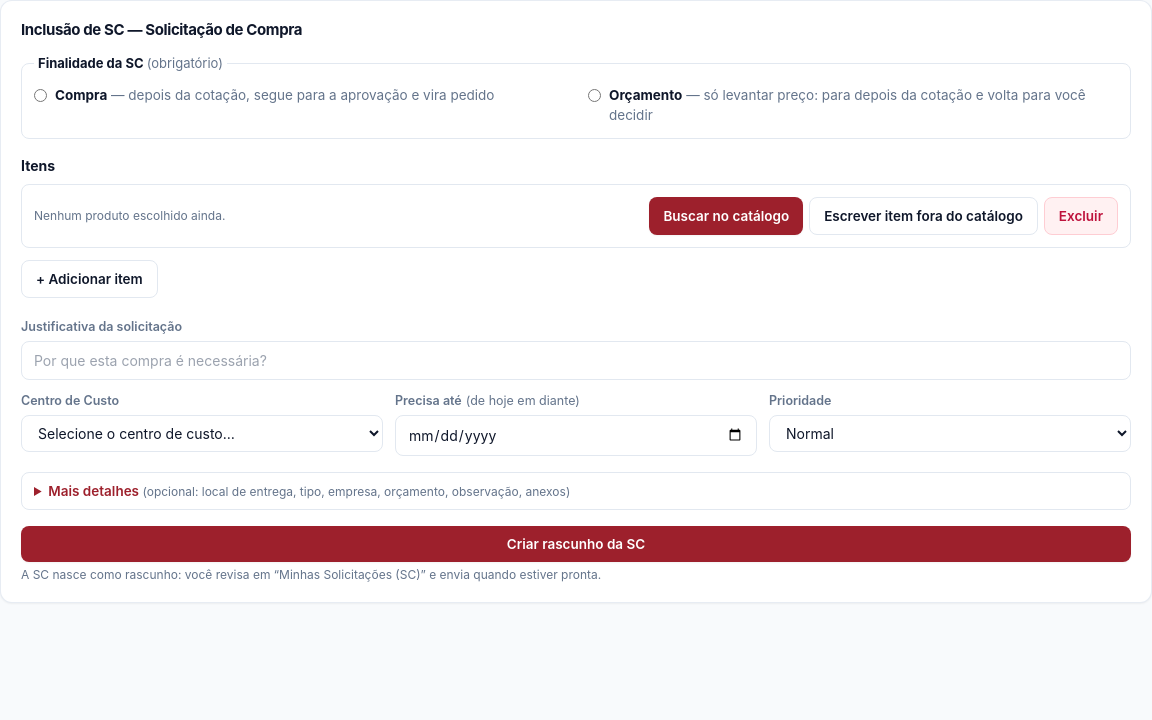
tela Inclusão de SC › a busca só acontece com família ou termo: o catálogo inteiro não é listado
Step 1. Click the button "Buscar no catálogo" → (726, 216), box top-left (649, 196), bottom-right (803, 235)
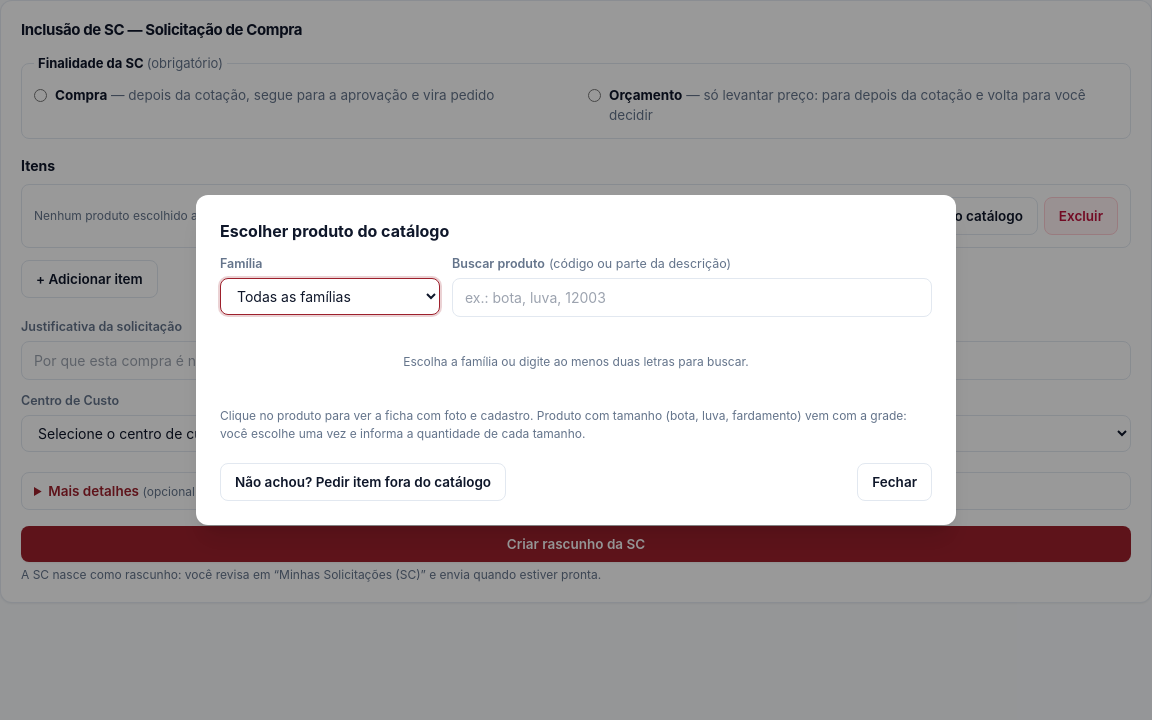
Expected: the text "Escolha a família ou digite ao menos duas letras" is shown, top-left (403, 354), bottom-right (749, 369)
Step 2. Select "EPI" in the dropdown labelled "Família" → (330, 296), box top-left (220, 278), bottom-right (440, 315)
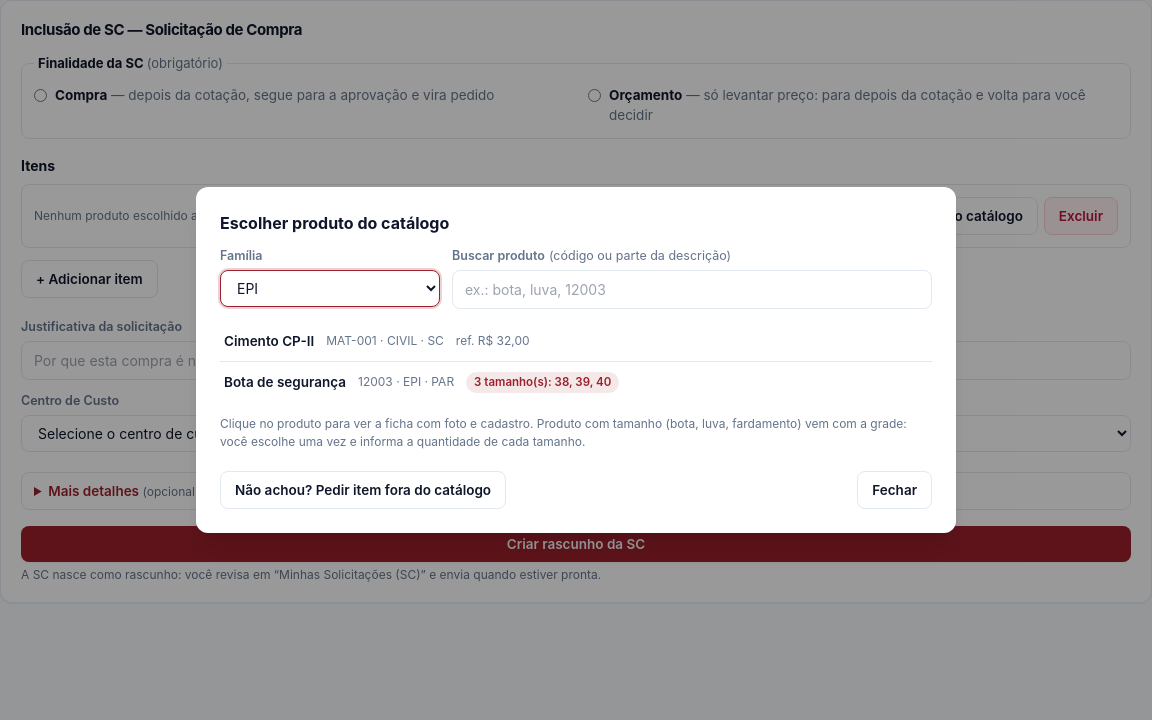
Expected: the list with test id "produtos-encontrados" shows "Bota de segurança", top-left (220, 362), bottom-right (932, 403)
Expected: the text "3 tamanho(s): 38, 39, 40" is shown, top-left (466, 372), bottom-right (619, 393)
